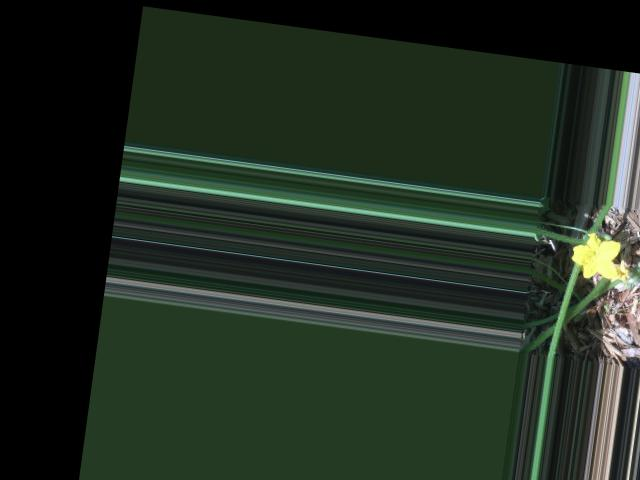cucumber: (637, 245, 640, 342)
